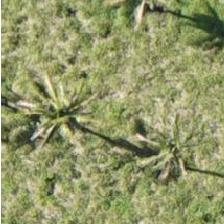coconut_tree: (117, 114, 207, 204), (15, 68, 105, 158)
